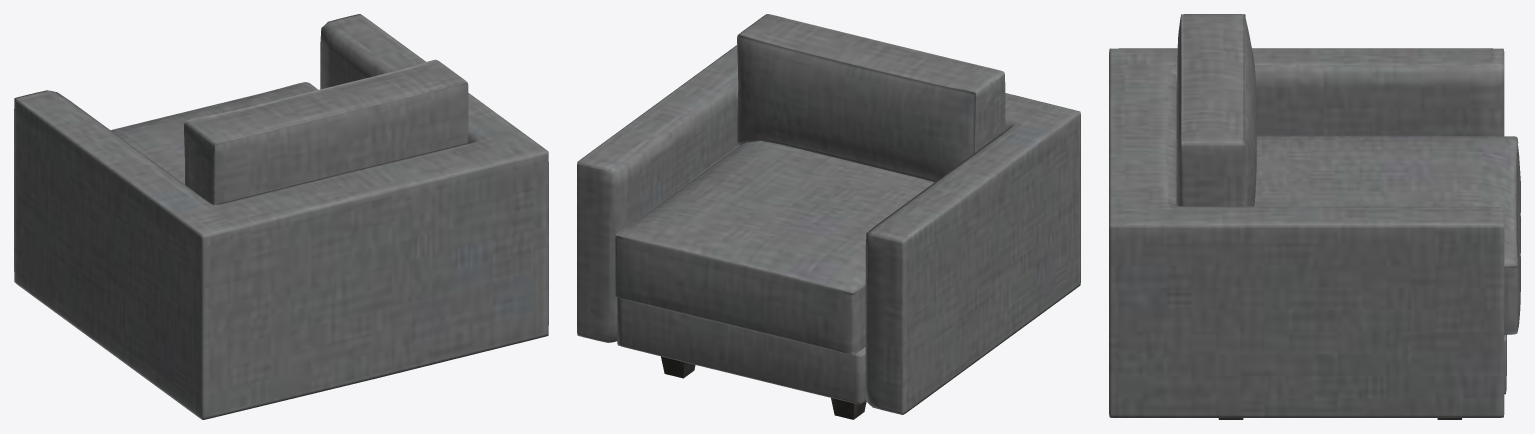
File: Sofa04.glb
3 renders of one model, left to right at view 1: azimuth 30°, elevation 25°; view 2: azimuth 150°, elevation 25°; view 3: azimuth 270°, elevation 25°, orthographic. The views are drawn at different scales.
Visible parts, largest first — view 1: Sofa04_model; view 2: Sofa04_model; view 3: Sofa04_model.
Part boxes in pixels (x1=…): Sofa04_model: x1=14, y1=14, x2=548, y2=419; Sofa04_model: x1=577, y1=14, x2=1080, y2=419; Sofa04_model: x1=1109, y1=14, x2=1520, y2=419.
Bounding box in the file's own units: 1.92 × 1.48 × 1.89.
1 material, 1 textured.
